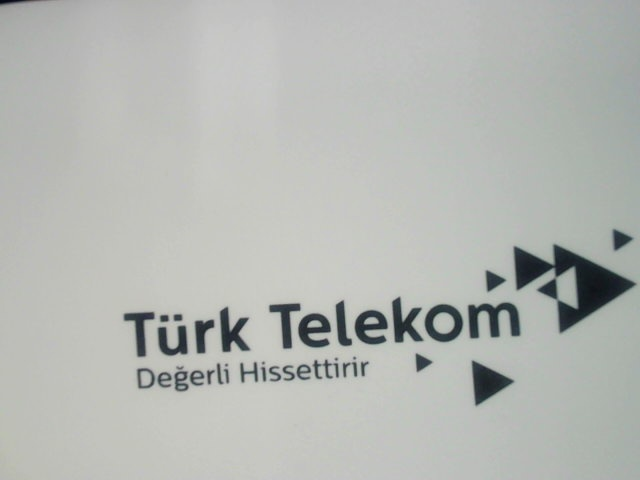AQ_TURKTelekom: (122, 225, 639, 408)
